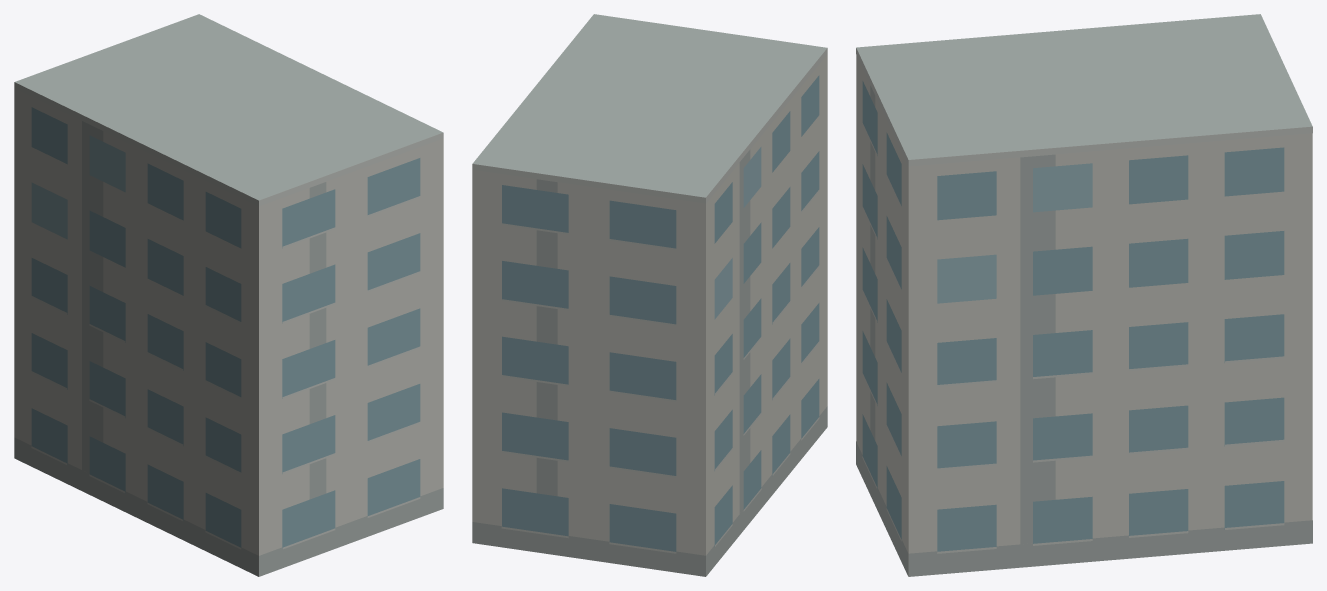
Rendered from residential-d0dbd8c1-681b-4eb4-9f9a-3300a024fbdf.glb.
The picture shows the model from 3 angles, left to right: view 1: azimuth 30°, elevation 25°; view 2: azimuth 150°, elevation 25°; view 3: azimuth 270°, elevation 25°; orthographic projection. The views are drawn at different scales.
Visible parts, largest first — view 1: residential-d0dbd8c1-681b-4eb4-9f9a-3300a024fbdf.tmp; view 2: residential-d0dbd8c1-681b-4eb4-9f9a-3300a024fbdf.tmp; view 3: residential-d0dbd8c1-681b-4eb4-9f9a-3300a024fbdf.tmp.
Part boxes in pixels (x1=…): residential-d0dbd8c1-681b-4eb4-9f9a-3300a024fbdf.tmp: x1=14, y1=14, x2=443, y2=576; residential-d0dbd8c1-681b-4eb4-9f9a-3300a024fbdf.tmp: x1=472, y1=14, x2=827, y2=576; residential-d0dbd8c1-681b-4eb4-9f9a-3300a024fbdf.tmp: x1=856, y1=14, x2=1312, y2=576.
Bounding box in the file's own units: 11.47 × 15.25 × 15.15.
